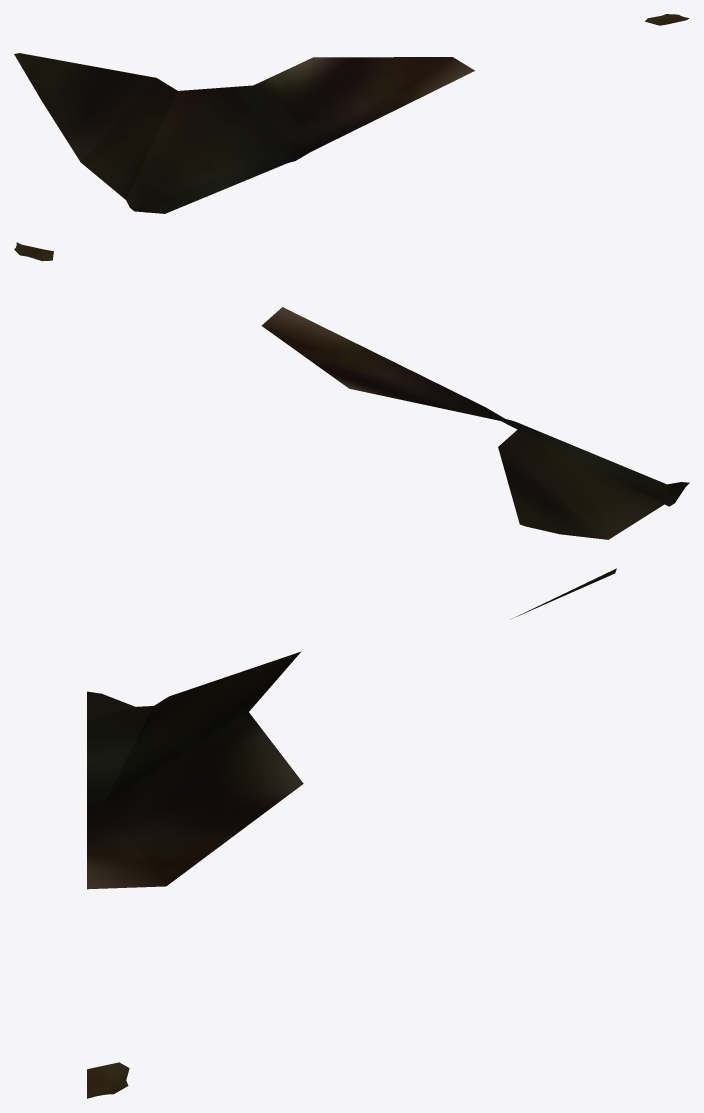
The picture shows the model from 3 angles, top to bottom: view 1: azimuth 30°, elevation 25°; view 2: azimuth 150°, elevation 25°; view 3: azimuth 270°, elevation 25°; orthographic projection. The views are drawn at different scales.
Bounding box in the file's own units: 0.283 × 0.0345 × 0.1195.
Materials: 1 (1 with a texture image).
